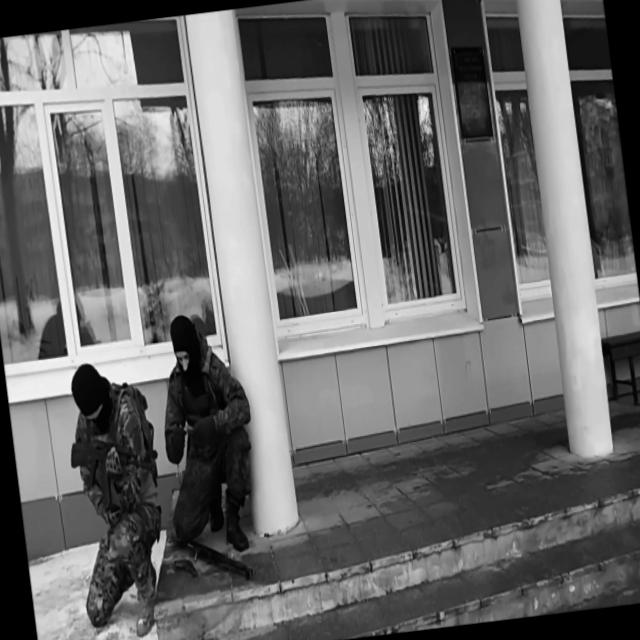gun: (68, 429, 157, 512), (164, 515, 254, 589), (172, 554, 200, 584)
person with a gun: (56, 354, 179, 640), (146, 308, 268, 562)
